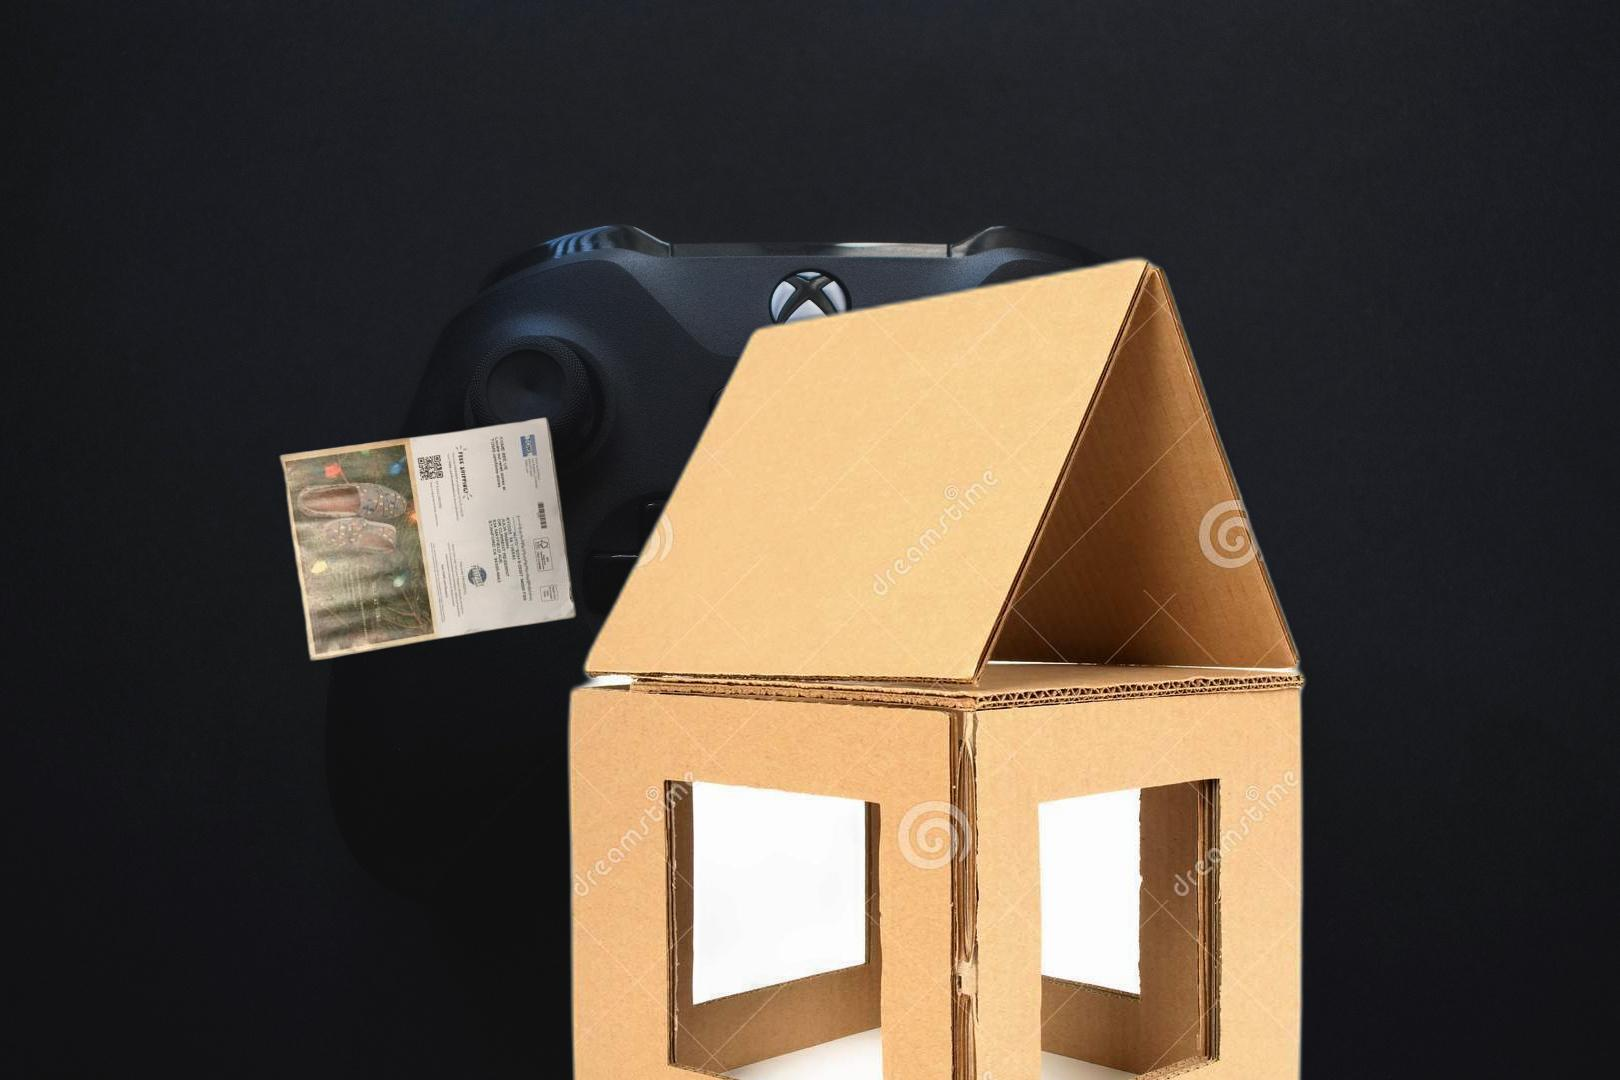paper: (274, 413, 580, 664)
trashbox-cardboard: (560, 246, 1314, 1080)
